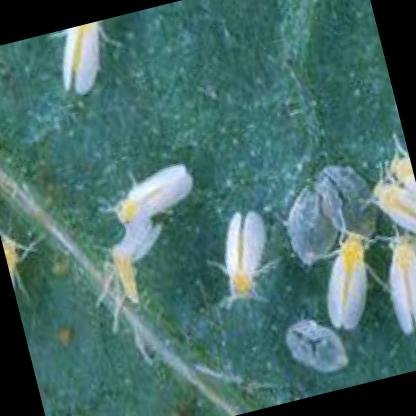whitefly: (117, 165, 194, 228), (328, 235, 367, 333)
